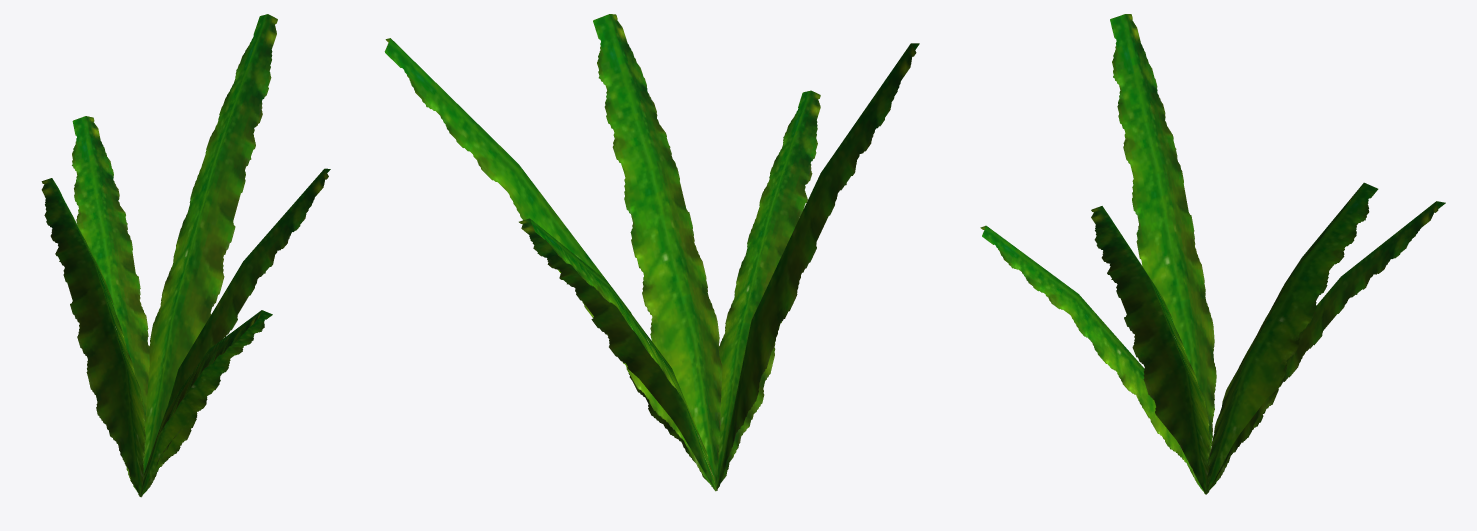
The model's file is INST_EKH_H2O_LILLYB_PLANT_01.fbx.
3 views of the same model, side by side, from view 1: azimuth 30°, elevation 25°; view 2: azimuth 150°, elevation 25°; view 3: azimuth 270°, elevation 25° (orthographic). The views are drawn at different scales.
Visible parts, largest first — view 1: INST_EKH_H2O_LILLYB_PLANT_01; view 2: INST_EKH_H2O_LILLYB_PLANT_01; view 3: INST_EKH_H2O_LILLYB_PLANT_01.
Boxes of the visible parts, x1,y1,x2,y2 form: INST_EKH_H2O_LILLYB_PLANT_01: (41,14,330,497); INST_EKH_H2O_LILLYB_PLANT_01: (384,14,919,491); INST_EKH_H2O_LILLYB_PLANT_01: (980,14,1445,494).
Bounding box in the file's own units: 19987 × 19817 × 20815.
1 material, 1 textured.
